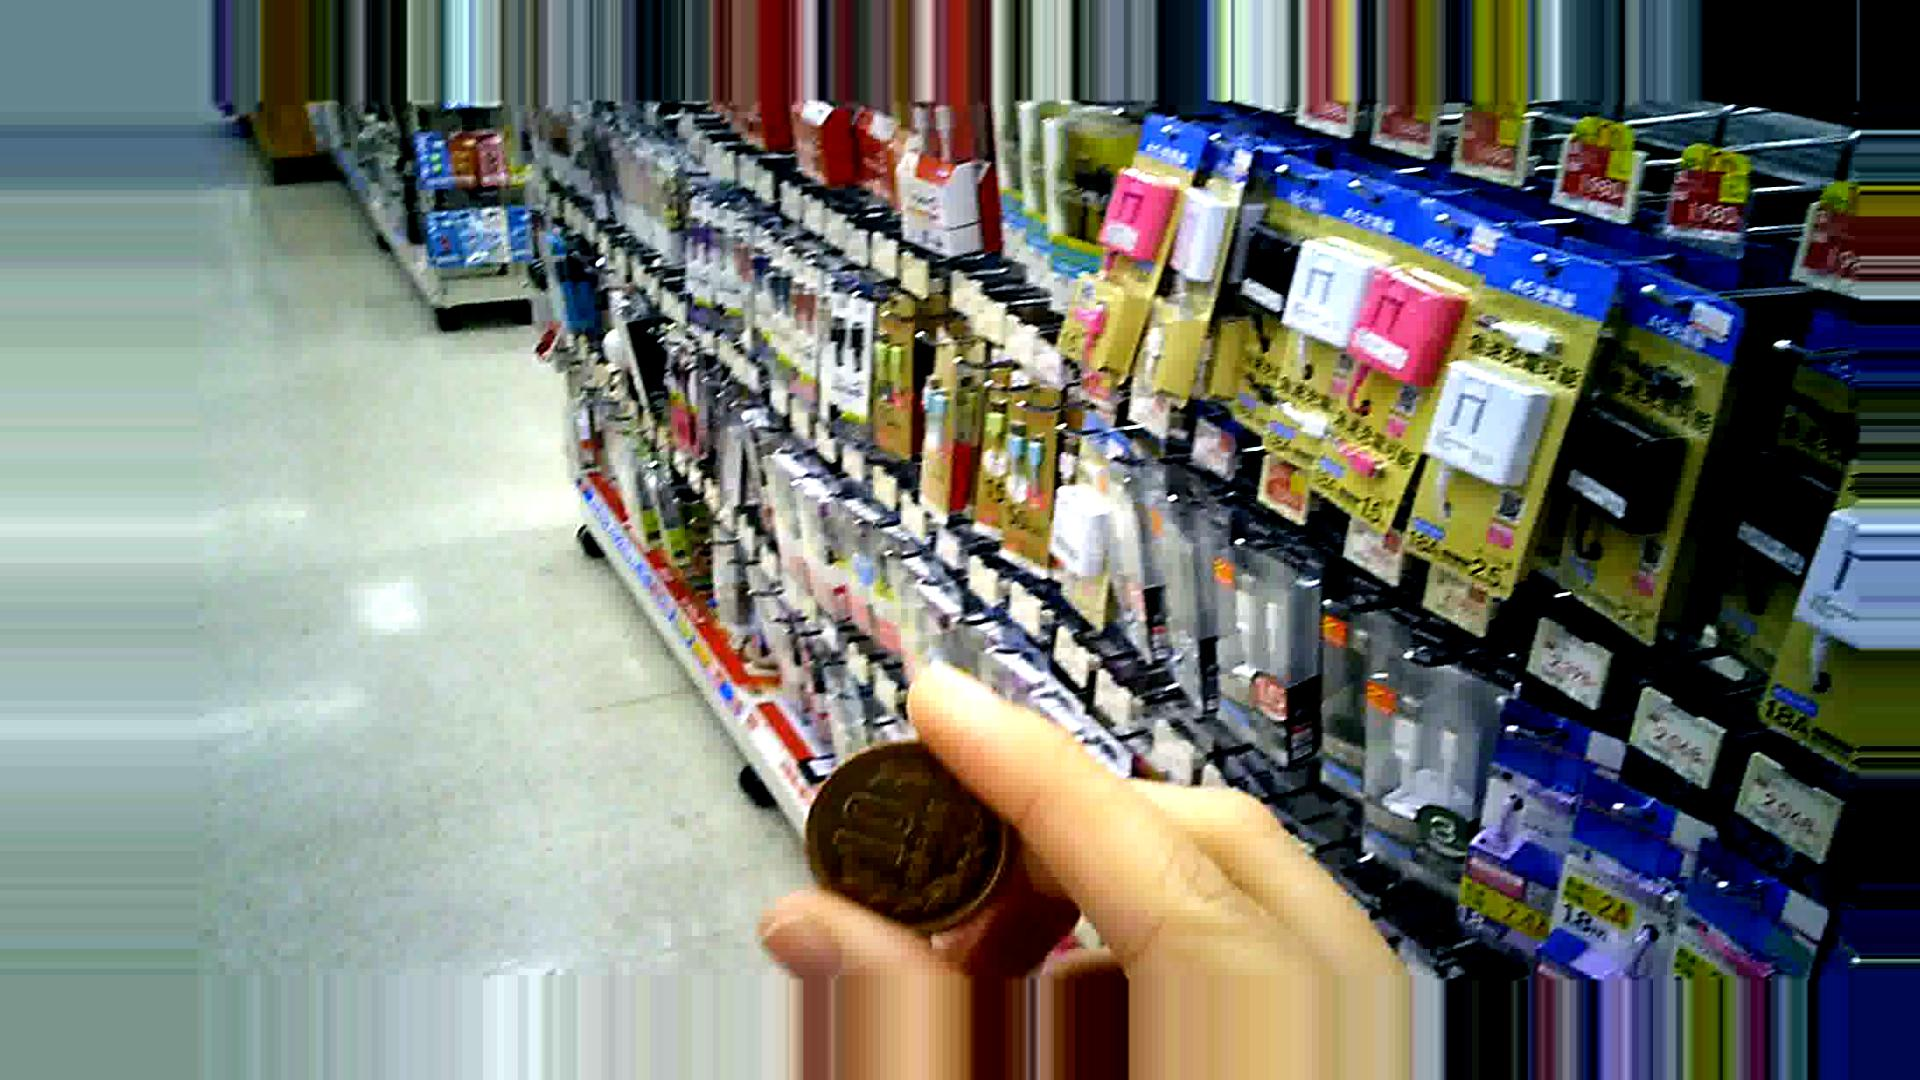10 Yen: (790, 737, 1006, 919)
